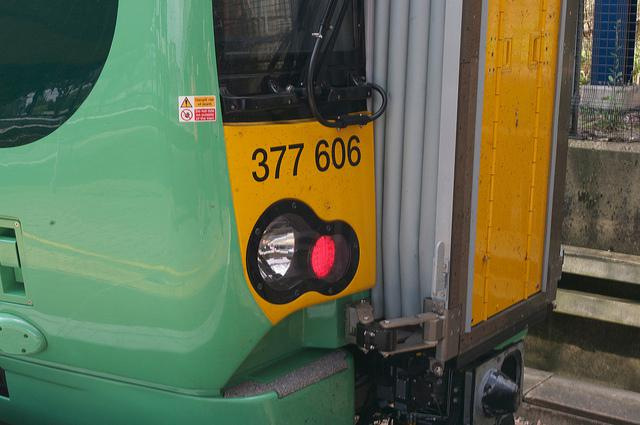Train: (1, 0, 585, 421)
